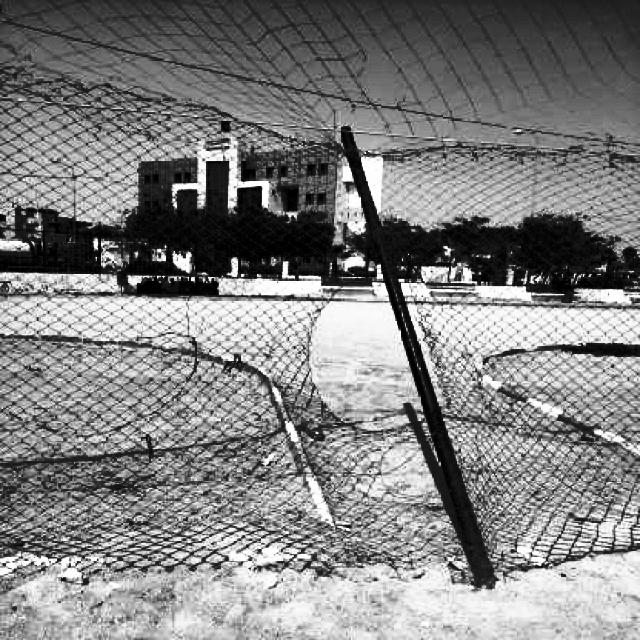anomaly-fence: (249, 0, 637, 597)
